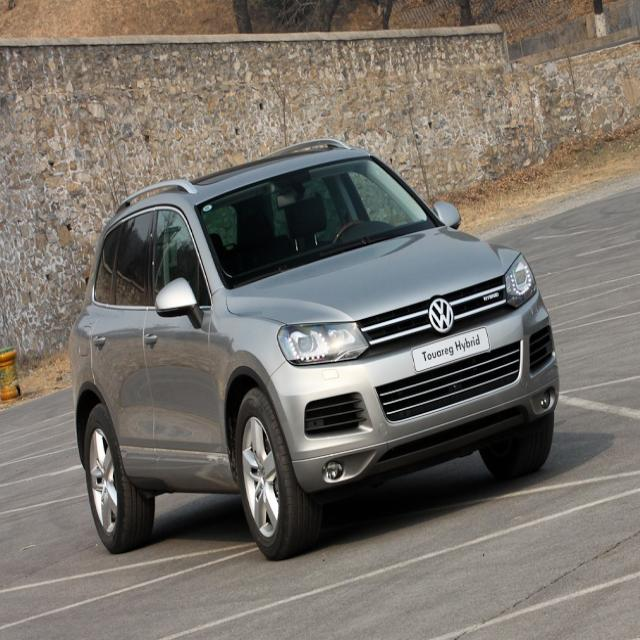door: (90, 206, 158, 482)
front_bumper: (265, 288, 558, 501)
front_glass: (196, 154, 440, 290)
front_left_side_light: (503, 249, 537, 313)
front_left_side_mirror: (433, 194, 464, 235)
front_right_side_door: (142, 191, 225, 489)
front_right_side_light: (276, 318, 370, 367)
front_right_side_mirror: (156, 275, 201, 327)
wheel: (238, 389, 317, 559), (86, 402, 156, 556)
